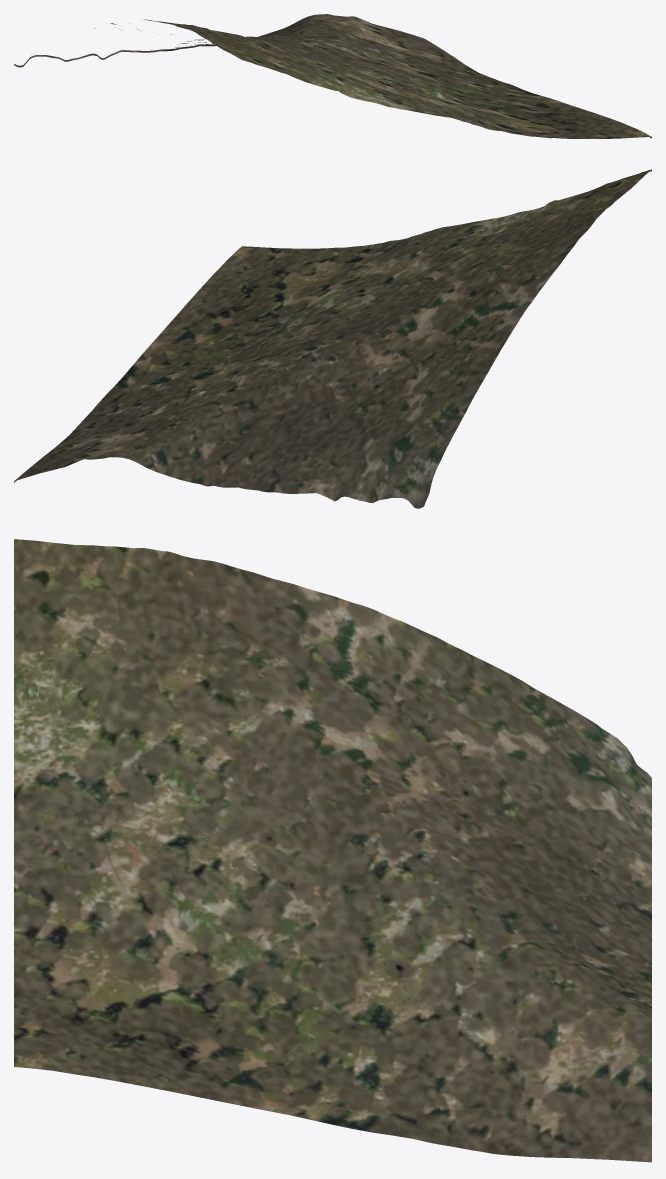
3 renders of one model, top to bottom at view 1: azimuth 30°, elevation 25°; view 2: azimuth 150°, elevation 25°; view 3: azimuth 270°, elevation 25°, orthographic. The views are drawn at different scales.
Bounding box in the file's own units: 250 × 144 × 241.
Materials: 1 (1 with a texture image).
